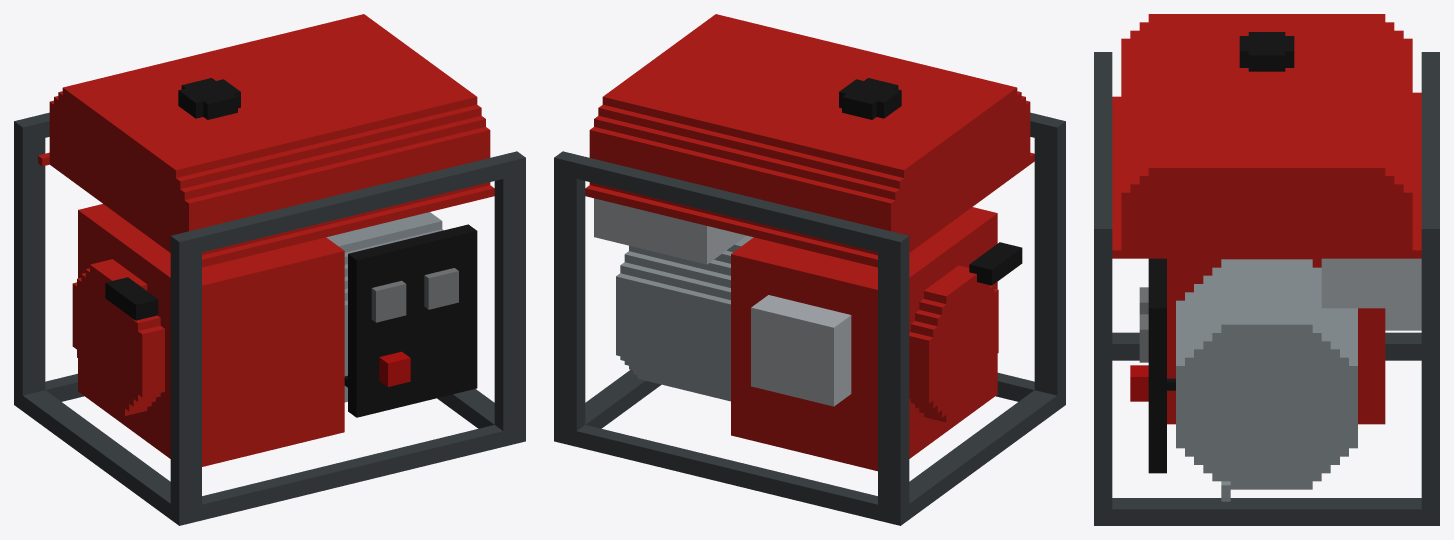
File: portable_generator.glb
The picture shows the model from 3 angles, left to right: view 1: azimuth 30°, elevation 25°; view 2: azimuth 150°, elevation 25°; view 3: azimuth 270°, elevation 25°; orthographic projection. The views are drawn at different scales.
Visible parts, largest first — view 1: portable_generator:compound; view 2: portable_generator:compound; view 3: portable_generator:compound.
Part boxes in pixels (box(x1,y1,x2,y2)): portable_generator:compound: box(14, 14, 525, 525); portable_generator:compound: box(554, 14, 1065, 525); portable_generator:compound: box(1094, 14, 1439, 525).
Size of the model in its own units: 0.46 by 0.44 by 0.38.
